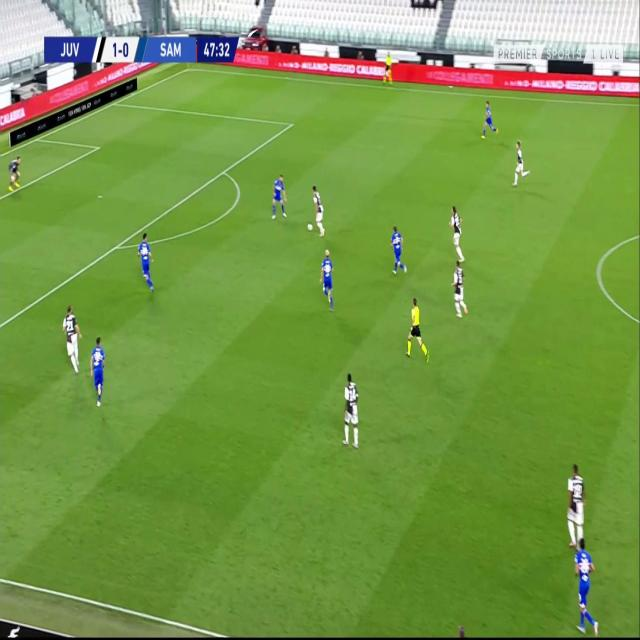ball: (306, 220, 314, 232)
player: (573, 533, 600, 637), (565, 459, 586, 546), (405, 295, 429, 364), (340, 370, 360, 451), (62, 303, 83, 374), (89, 335, 108, 403), (136, 232, 156, 292), (511, 138, 531, 190), (389, 224, 408, 278), (451, 261, 468, 321), (320, 250, 336, 312), (448, 205, 465, 262), (310, 183, 326, 238), (270, 172, 288, 220), (481, 98, 499, 140), (6, 153, 23, 196), (383, 50, 393, 85)
